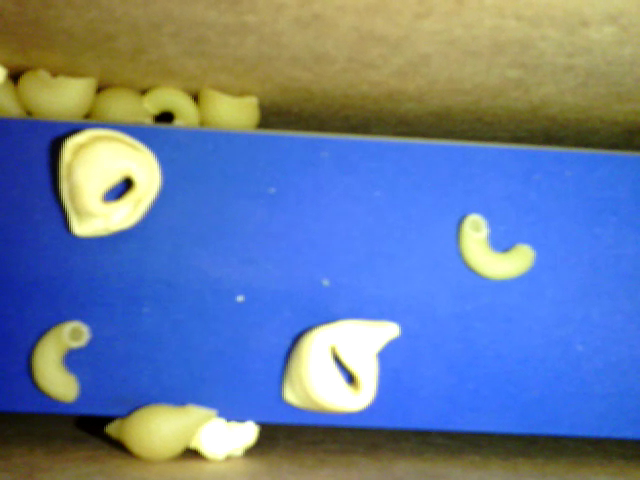elbow: (30, 318, 93, 402), (459, 213, 534, 281), (144, 85, 201, 127)
shell: (103, 401, 221, 462), (17, 68, 96, 120), (195, 82, 260, 133), (90, 84, 155, 125)
tortellini: (282, 318, 402, 412), (59, 127, 162, 236)
